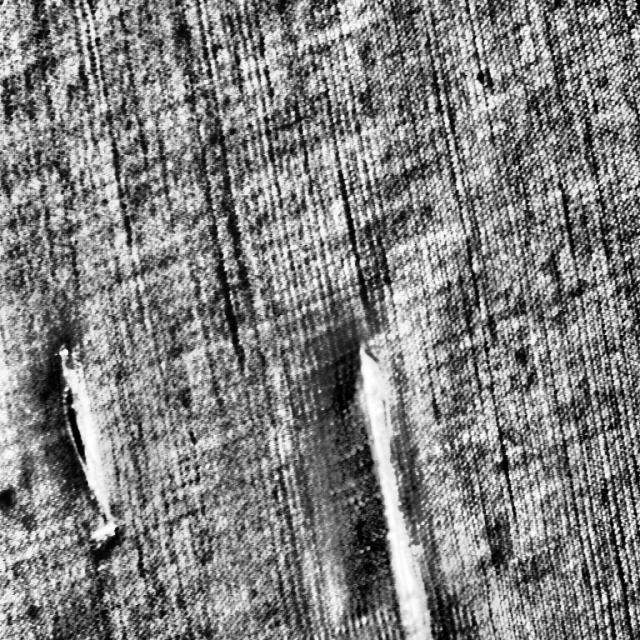Hole: (348, 331, 440, 639)
Stitch: (51, 335, 121, 549)
